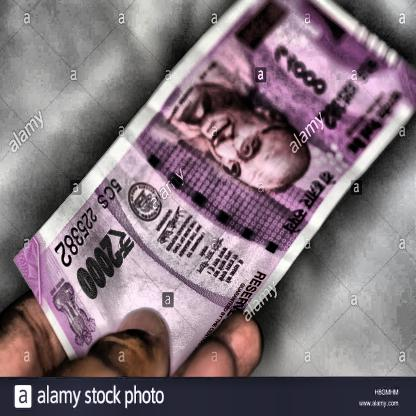Rs2000: (69, 218, 140, 309)
